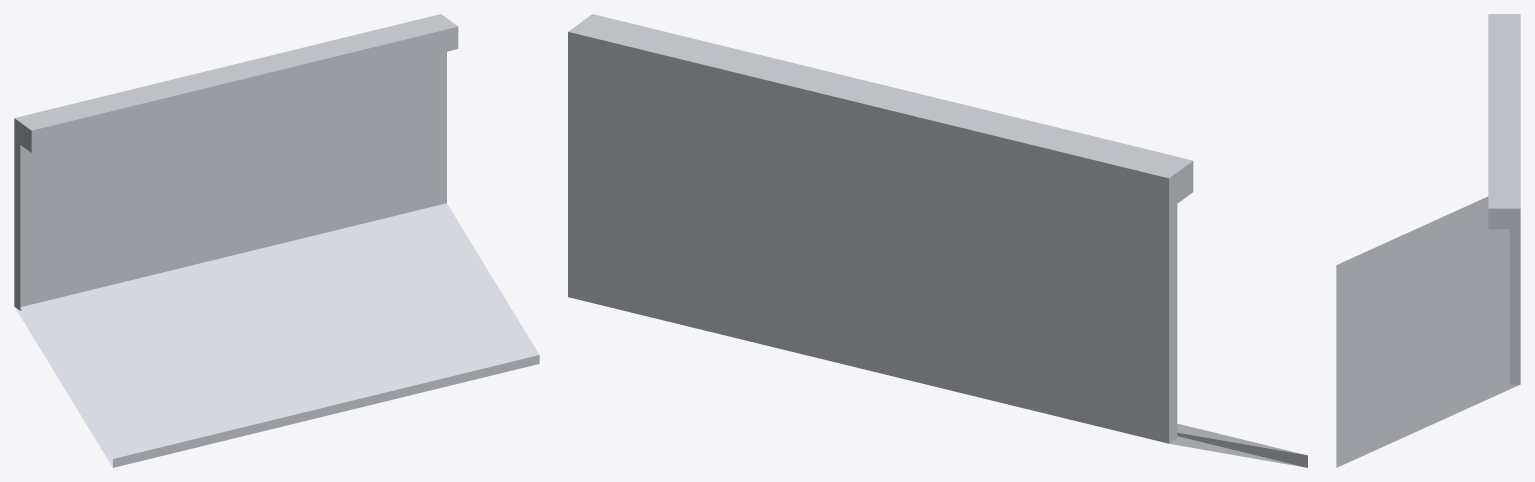
The model's file is telhado_rufo_i50_0_5m.glb.
The picture shows the model from 3 angles, left to right: view 1: azimuth 30°, elevation 25°; view 2: azimuth 150°, elevation 25°; view 3: azimuth 270°, elevation 25°; orthographic projection. The views are drawn at different scales.
Parts seen in each view (by area): view 1: telhado_rufo_i50_0_5m; view 2: telhado_rufo_i50_0_5m; view 3: telhado_rufo_i50_0_5m.
Boxes of the visible parts, box(x1,y1,x2,y2) form: telhado_rufo_i50_0_5m: box(14, 14, 539, 467); telhado_rufo_i50_0_5m: box(568, 14, 1307, 467); telhado_rufo_i50_0_5m: box(1336, 14, 1520, 467).
Bounding box in the file's own units: 0.5 × 0.311 × 0.2.
1 material, 1 textured.
